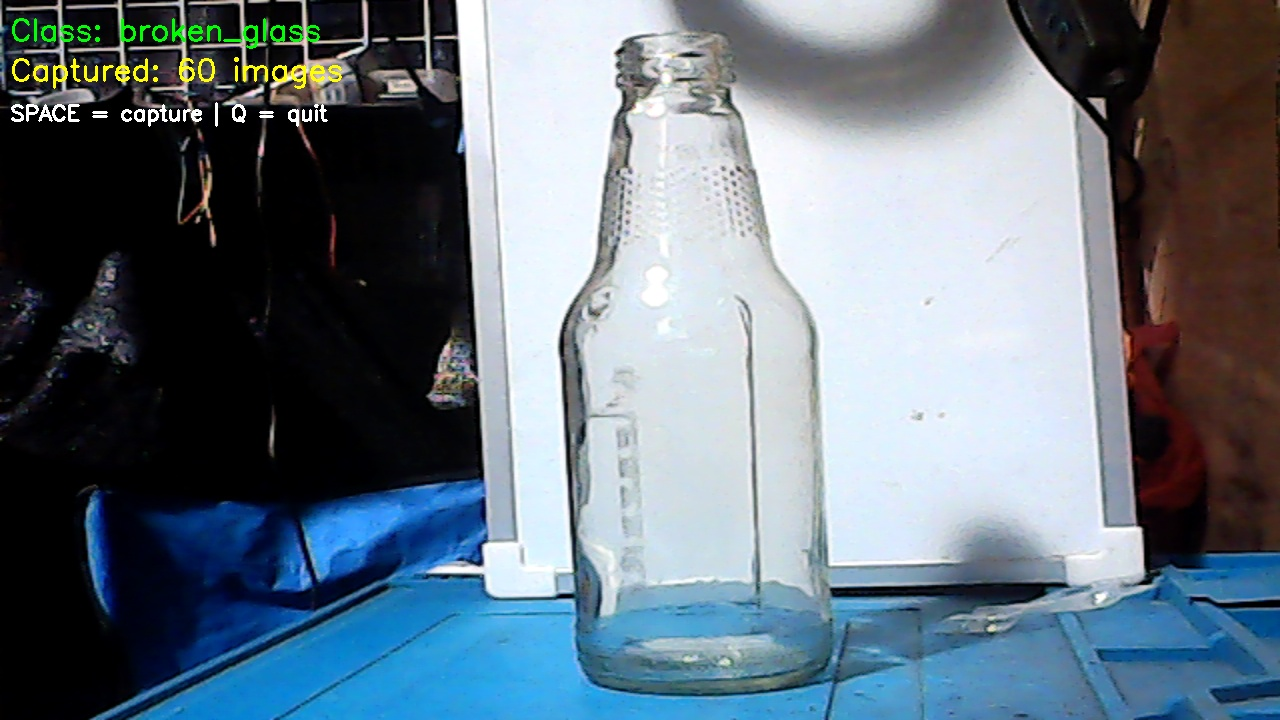broken_glass: (575, 31, 835, 693)
